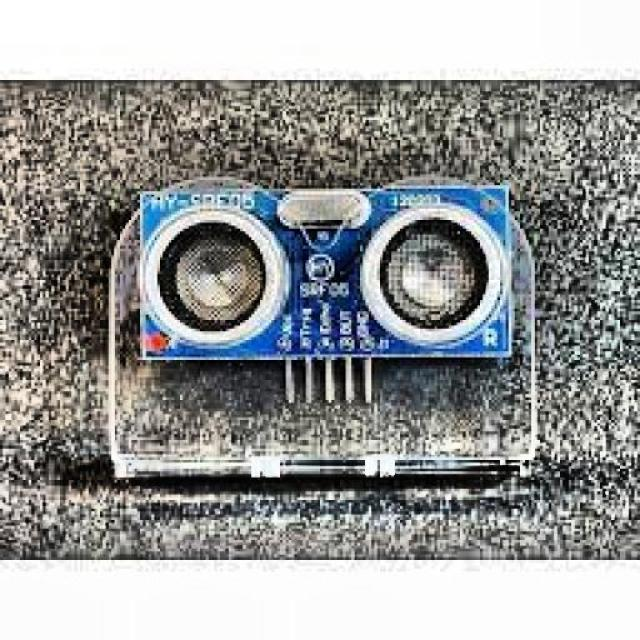Ultrasonic Sensor: (133, 178, 524, 402)
